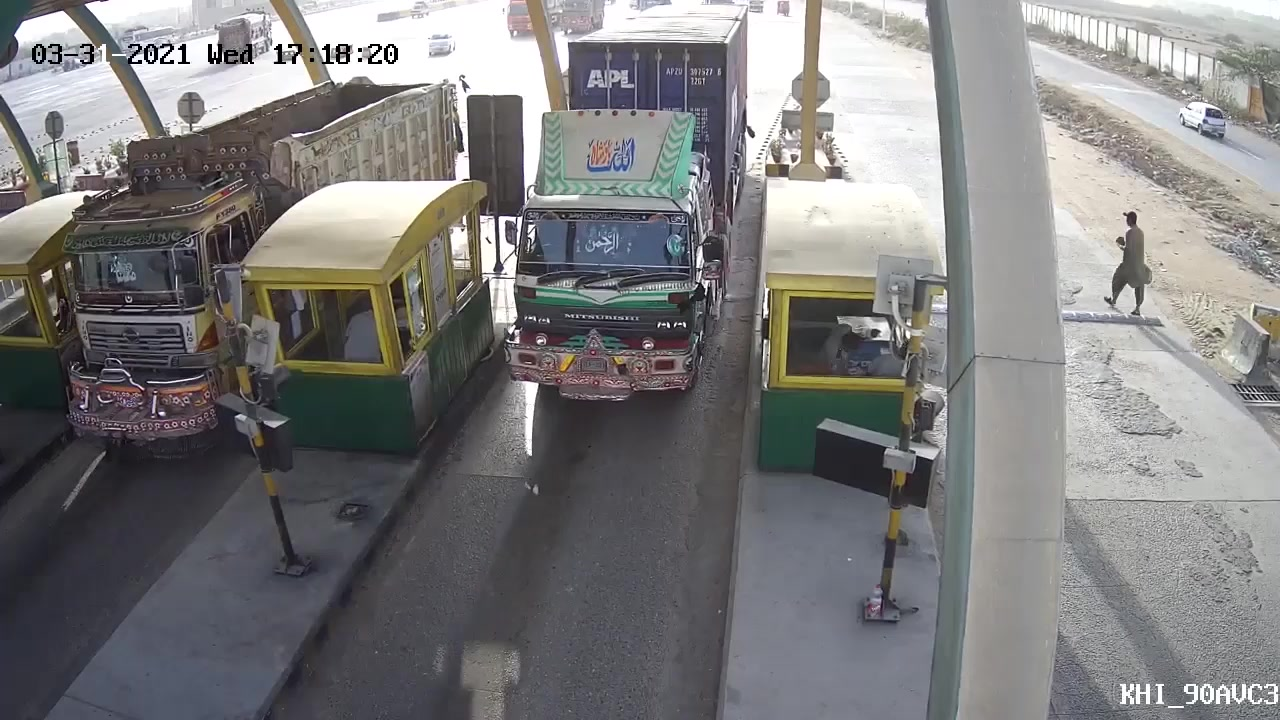F6: (497, 1, 757, 411)
